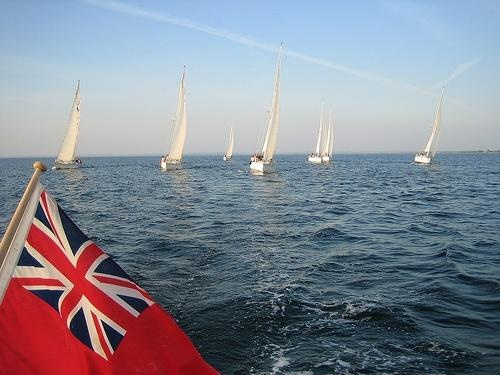boat: (248, 43, 284, 175), (160, 65, 191, 171), (53, 78, 86, 170), (415, 82, 444, 167), (309, 100, 329, 166), (222, 125, 238, 162), (323, 122, 335, 163)
